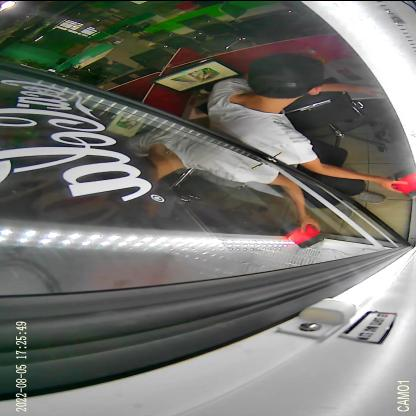red: (386, 166, 416, 198)
